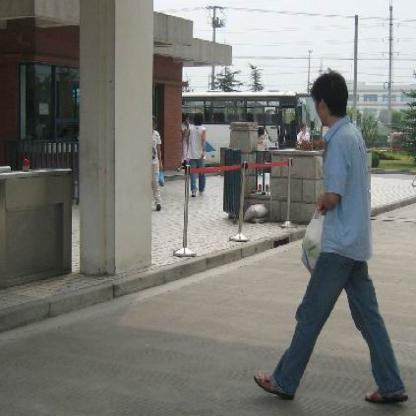person: (256, 68, 412, 405), (182, 109, 217, 191)
